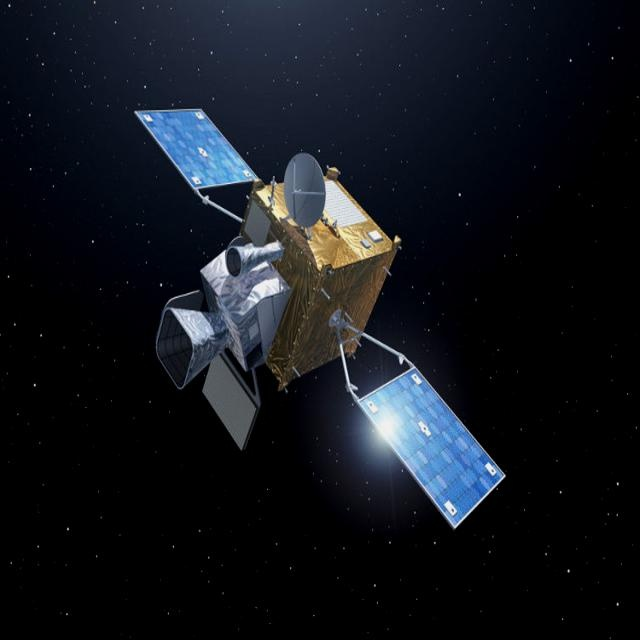satellite: (128, 85, 511, 548)
